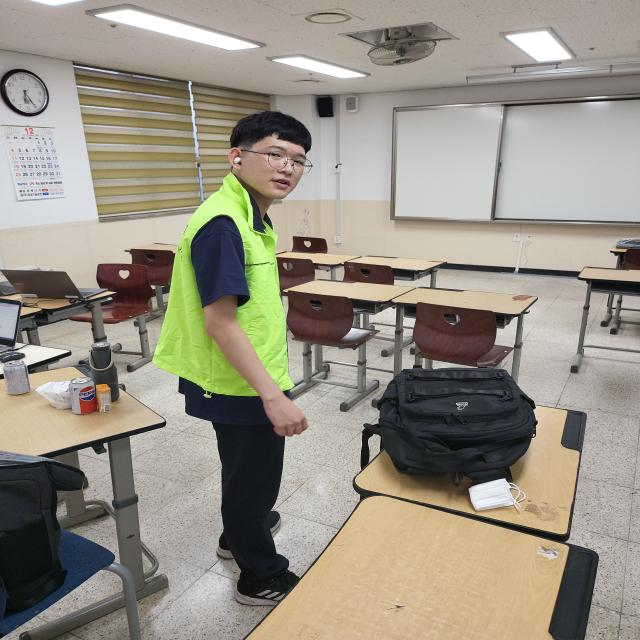weston_spy: (122, 161, 316, 415)
